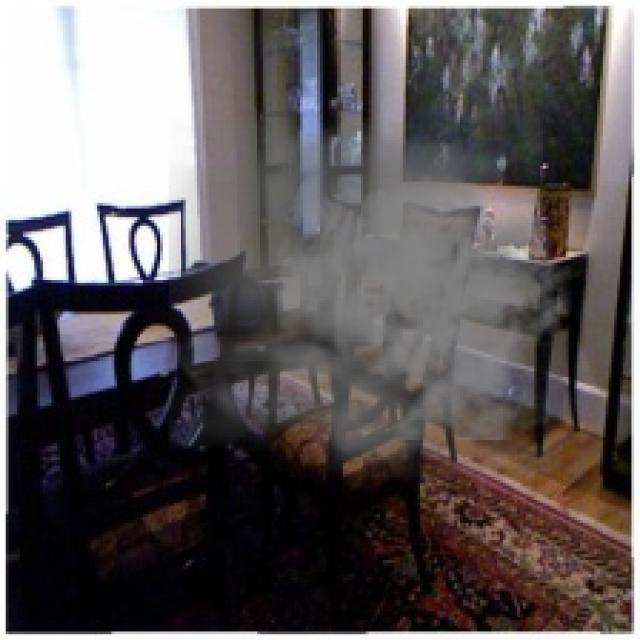Smoke: (168, 117, 574, 480)
